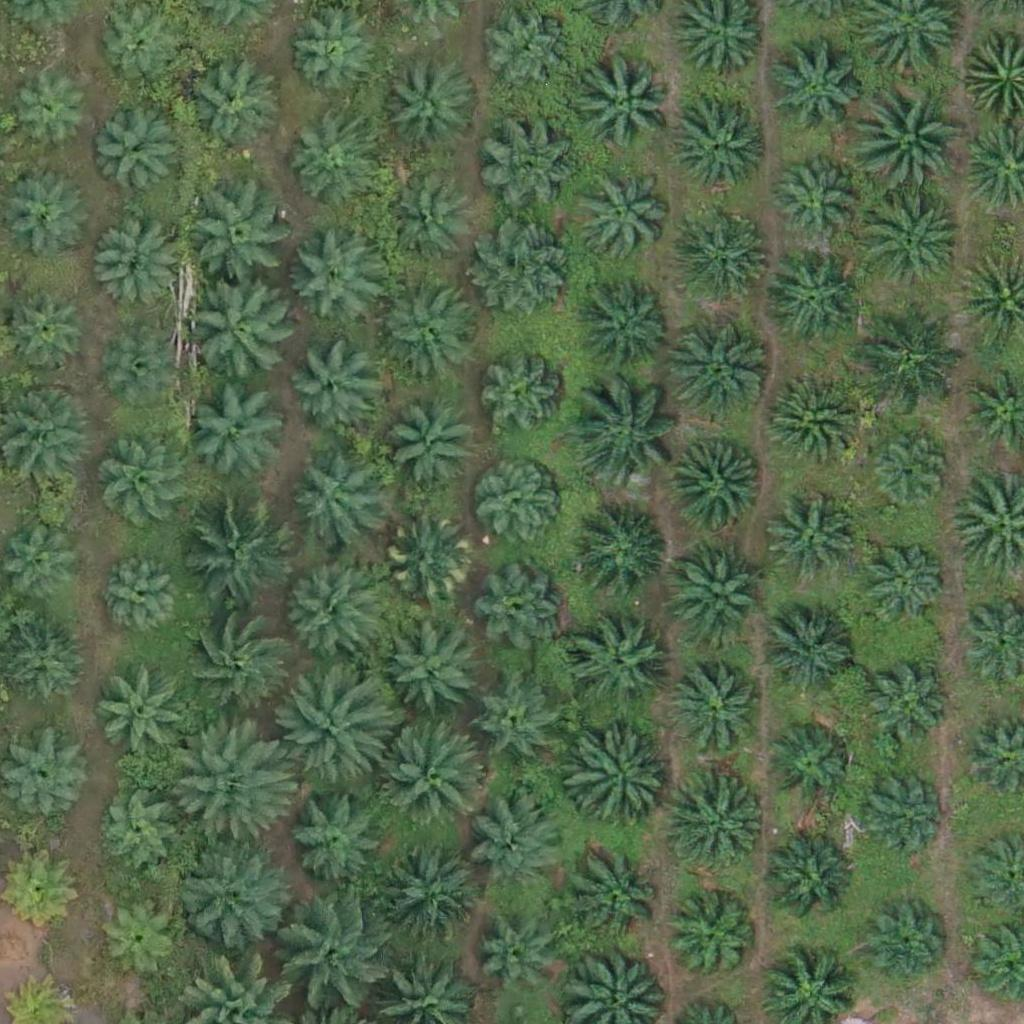Kelapa_Sawit: (182, 277, 295, 391), (572, 381, 685, 494), (282, 900, 395, 1013), (857, 297, 970, 410), (281, 677, 393, 791), (182, 501, 294, 615), (378, 723, 490, 836), (174, 836, 286, 949), (174, 721, 286, 834), (178, 608, 290, 721), (856, 186, 968, 299), (851, 76, 963, 189), (760, 371, 860, 472), (762, 600, 862, 701), (758, 832, 858, 933), (668, 776, 768, 877), (572, 504, 672, 605), (568, 616, 668, 717), (568, 732, 668, 833), (383, 621, 483, 722), (282, 782, 382, 883), (194, 382, 294, 483), (93, 666, 193, 767), (179, 60, 279, 161), (194, 185, 294, 286), (378, 280, 478, 381), (478, 113, 578, 214), (476, 217, 576, 318), (579, 52, 679, 153), (572, 167, 672, 268), (576, 276, 676, 377), (670, 319, 770, 420), (669, 95, 769, 196), (762, 39, 862, 140), (765, 251, 865, 352), (667, 438, 767, 538), (668, 543, 768, 643), (570, 848, 670, 948), (471, 792, 571, 892), (378, 848, 478, 948), (277, 564, 377, 664), (285, 223, 385, 323), (677, 206, 777, 306), (95, 552, 183, 641), (868, 428, 956, 516), (857, 535, 945, 623), (861, 663, 949, 751), (854, 765, 942, 853), (770, 496, 858, 584), (670, 898, 758, 986), (287, 342, 375, 430), (288, 458, 376, 546), (103, 442, 191, 530), (92, 892, 180, 980), (286, 13, 374, 101), (388, 57, 476, 145), (483, 7, 571, 95), (861, 900, 948, 988), (766, 718, 853, 806), (675, 662, 762, 750), (478, 356, 565, 444), (475, 465, 562, 553), (478, 564, 565, 652), (475, 681, 562, 769), (475, 925, 562, 1013), (385, 517, 472, 605), (384, 402, 471, 490), (95, 790, 182, 878), (3, 287, 90, 375), (3, 169, 90, 257), (10, 65, 97, 153), (97, 5, 184, 93), (96, 114, 183, 202), (93, 222, 180, 310), (285, 120, 372, 208), (383, 178, 470, 266), (772, 153, 859, 241), (107, 332, 182, 408), (6, 852, 81, 927)
